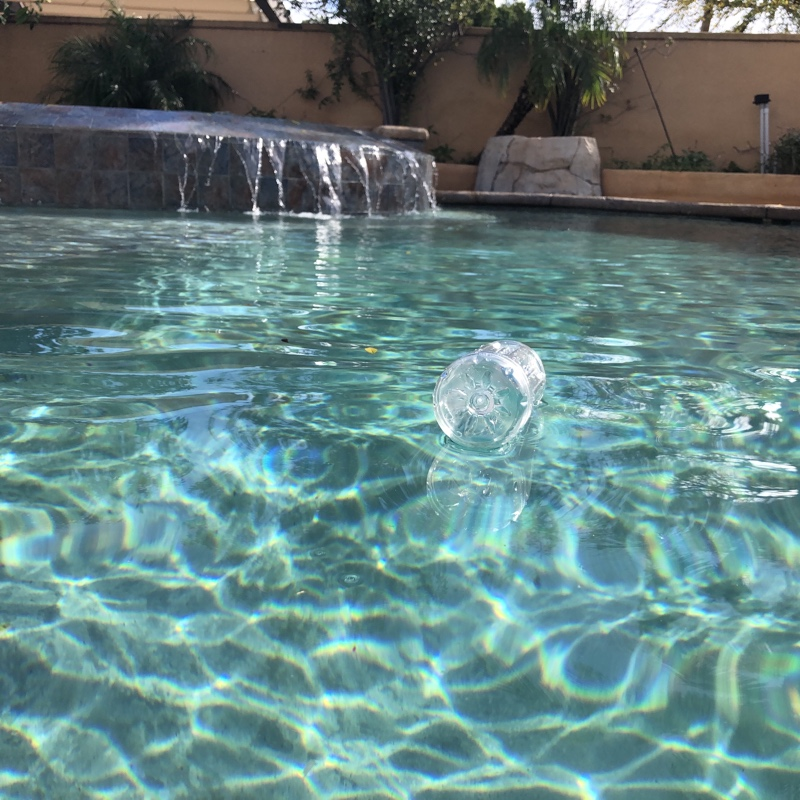Plastic Bottle: (431, 338, 550, 456)
